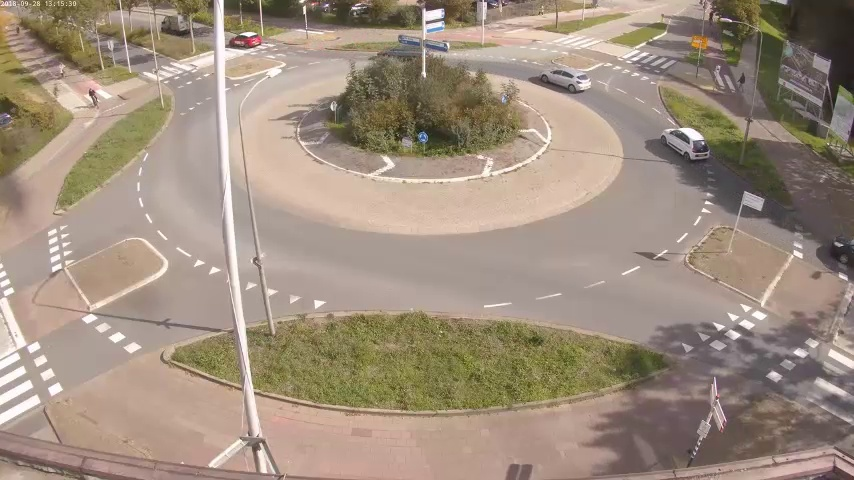bicycle: (81, 87, 102, 107)
car: (656, 126, 713, 167), (541, 65, 595, 94), (823, 232, 854, 270), (227, 27, 260, 49)
person: (736, 71, 750, 97)
van: (160, 13, 188, 32)
